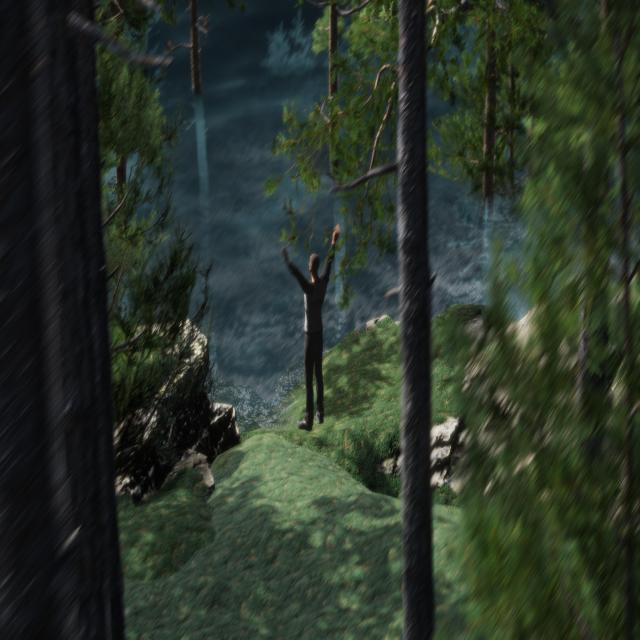Human: (280, 220, 346, 452)
